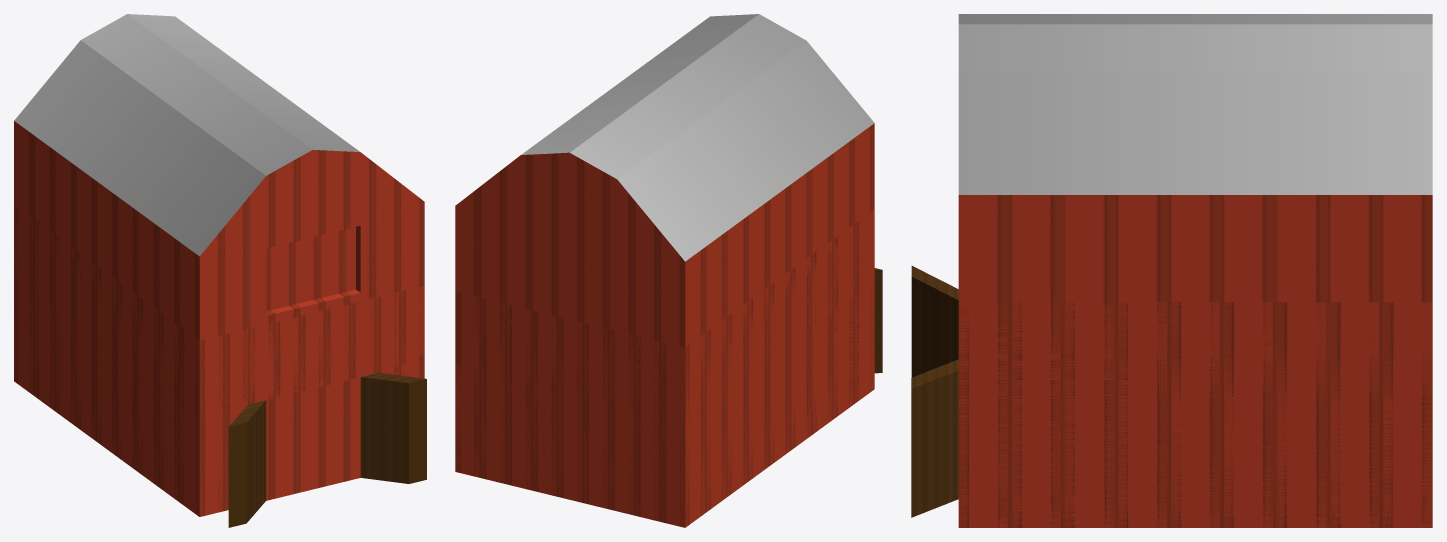
File: Barn.FBX
3 renders of one model, left to right at view 1: azimuth 30°, elevation 25°; view 2: azimuth 150°, elevation 25°; view 3: azimuth 270°, elevation 25°, orthographic. The views are drawn at different scales.
Parts seen in each view (by area): view 1: pCube1, Dak, RechterDeur, Linkerdeur; view 2: pCube1, Dak, Linkerdeur; view 3: pCube1, Dak, RechterDeur, Linkerdeur.
Boxes of the visible parts, x1,y1,x2,y2 form: pCube1: (14, 121, 424, 516); Dak: (14, 14, 359, 256); RechterDeur: (360, 372, 426, 483); Linkerdeur: (228, 400, 266, 527); pCube1: (455, 123, 874, 527); Dak: (521, 14, 874, 261); Linkerdeur: (874, 268, 882, 373); pCube1: (958, 195, 1432, 527); Dak: (958, 14, 1432, 194); RechterDeur: (911, 359, 958, 517); Linkerdeur: (911, 266, 958, 377).
Size of the model in its own units: 5.51 by 7.96 by 8.66.
Materials: 3 (3 with a texture image).
